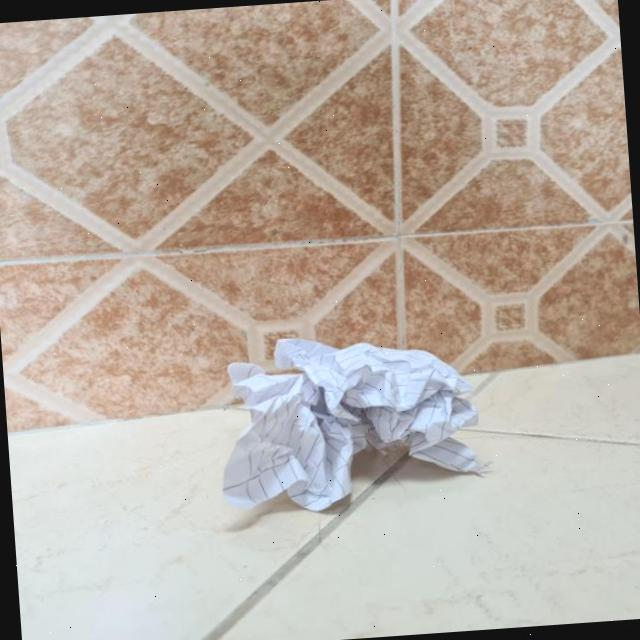trash: (211, 319, 494, 513)
